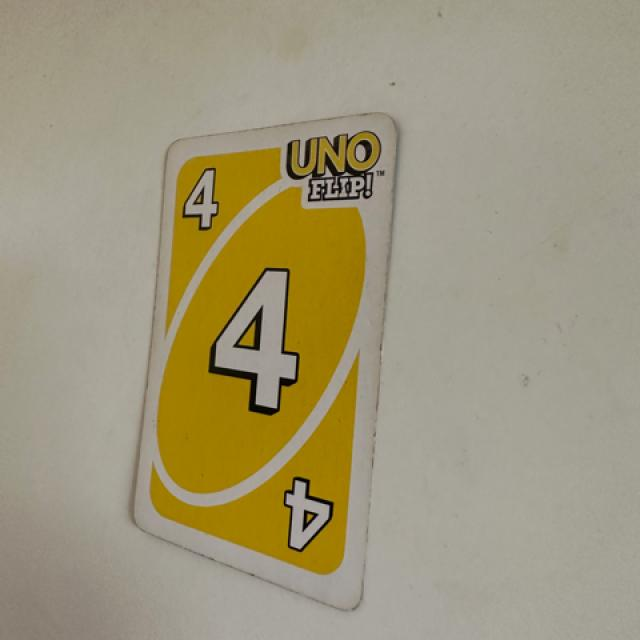lyellow-4: (174, 150, 230, 244)
